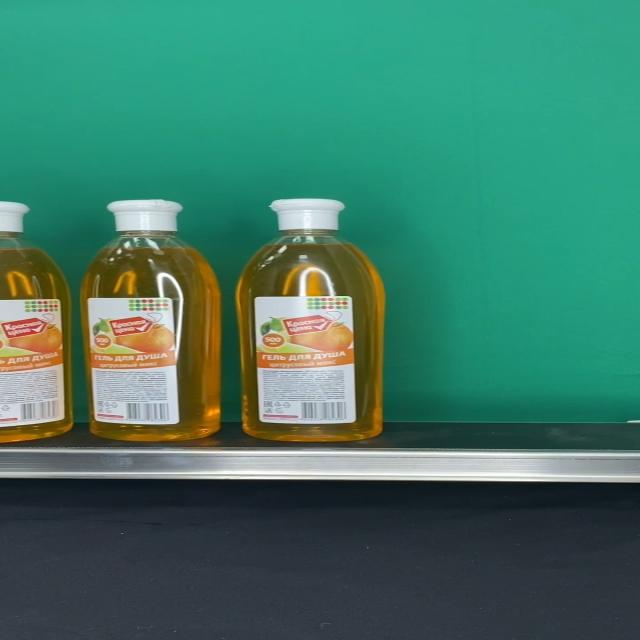Bottle: (237, 198, 386, 441), (80, 199, 221, 441)
Cap: (108, 199, 184, 232), (269, 198, 345, 230)
